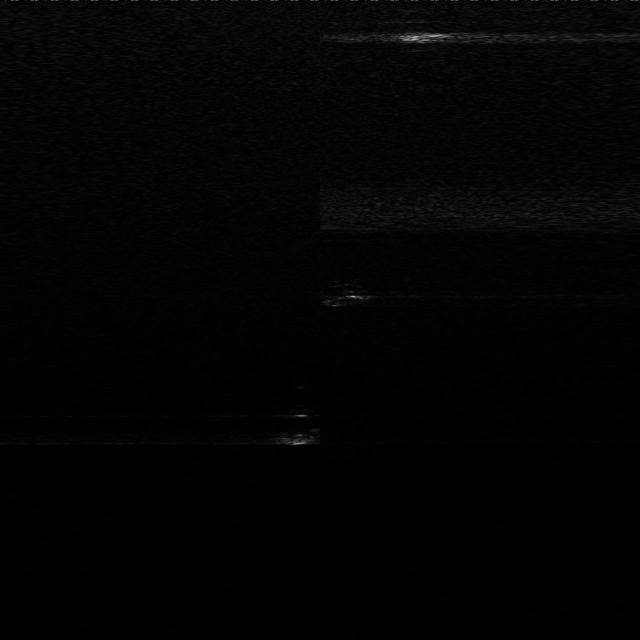ball: (257, 403, 329, 449)
tyre: (321, 276, 372, 309)
